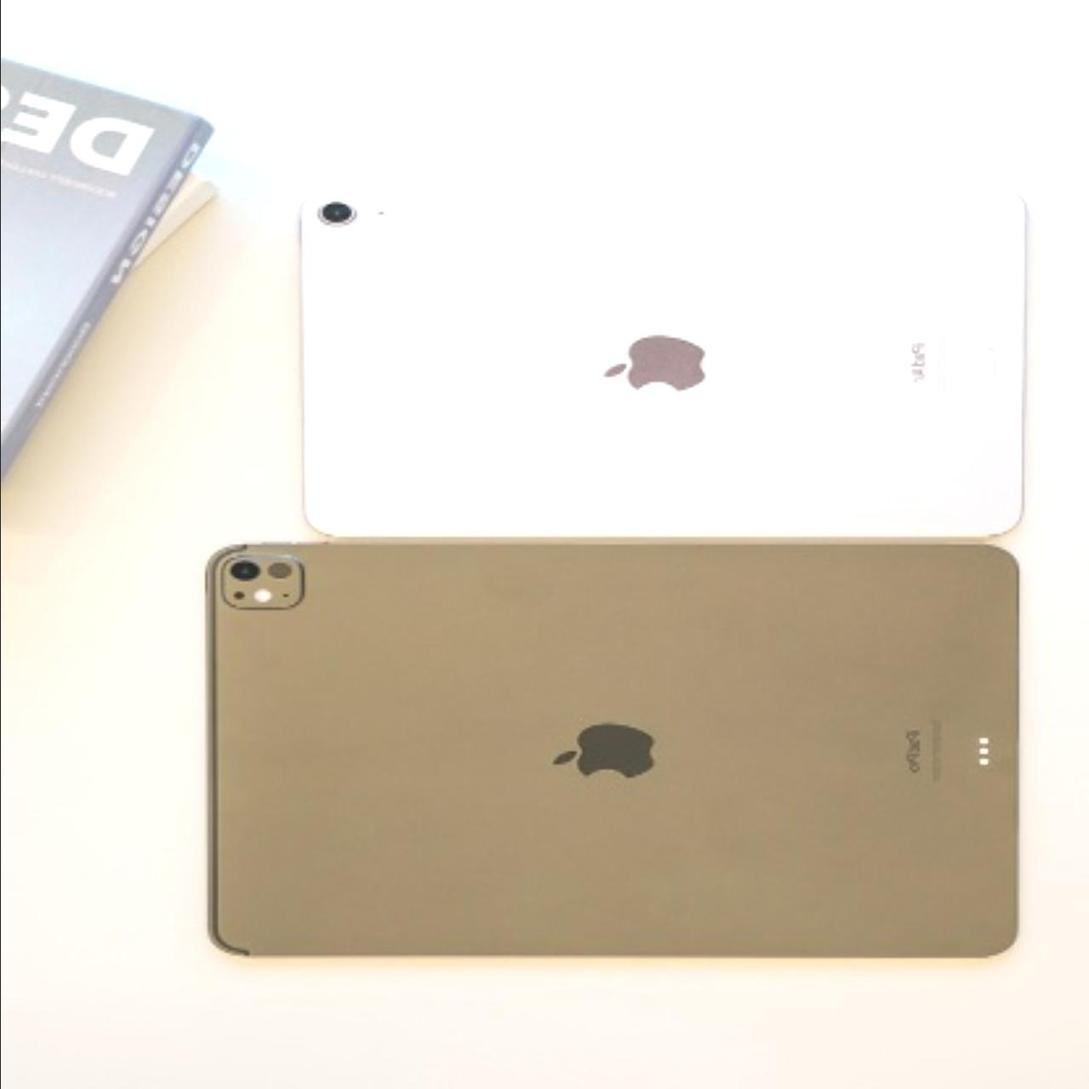Tablet_PC: (194, 537, 1031, 966), (285, 181, 1039, 544)
